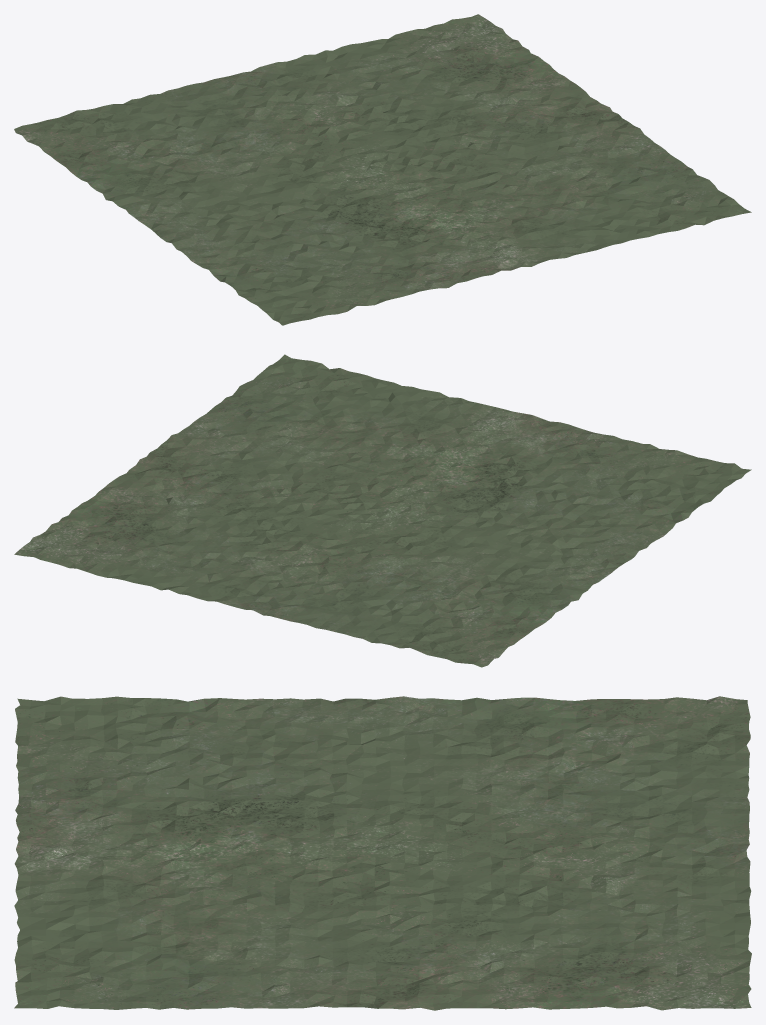
The model's file is grassy1.dae.
The picture shows the model from 3 angles, top to bottom: view 1: azimuth 30°, elevation 25°; view 2: azimuth 150°, elevation 25°; view 3: azimuth 270°, elevation 25°; orthographic projection. The views are drawn at different scales.
Visible parts, largest first — view 1: Plane; view 2: Plane; view 3: Plane.
Part boxes in pixels (x1,y1,x2,y2): Plane: (14, 14, 751, 325); Plane: (14, 354, 751, 667); Plane: (14, 696, 751, 1010).
Bounding box in the file's own units: 178 × 178 × 1.68.
Materials: 1 (1 with a texture image).
